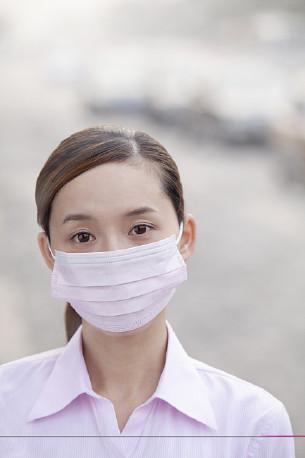OK: (53, 204, 186, 337)
